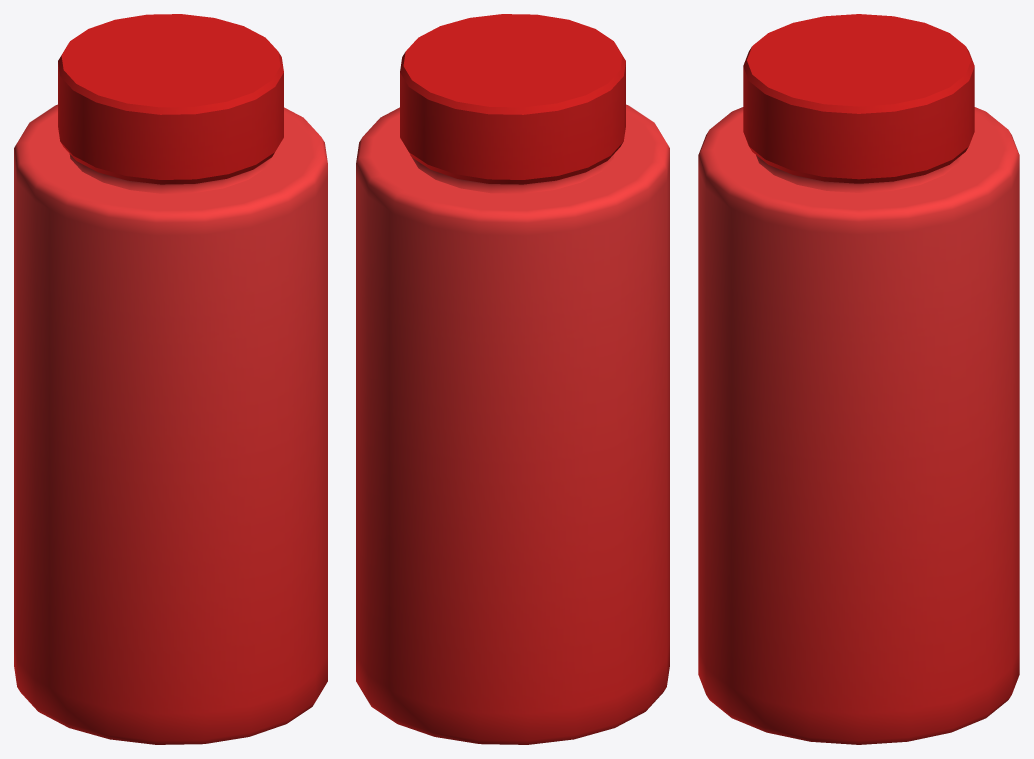
The model's file is bottle_flat_red.fbx.
3 renders of one model, left to right at view 1: azimuth 30°, elevation 25°; view 2: azimuth 150°, elevation 25°; view 3: azimuth 270°, elevation 25°, orthographic.
Parts seen in each view (by area): view 1: bottle_flat_red; view 2: bottle_flat_red; view 3: bottle_flat_red.
Boxes of the visible parts, x1,y1,x2,y2 form: bottle_flat_red: [14, 14, 327, 744]; bottle_flat_red: [356, 14, 669, 744]; bottle_flat_red: [698, 14, 1019, 744].
Size of the model in its own units: 107 by 234 by 110.
